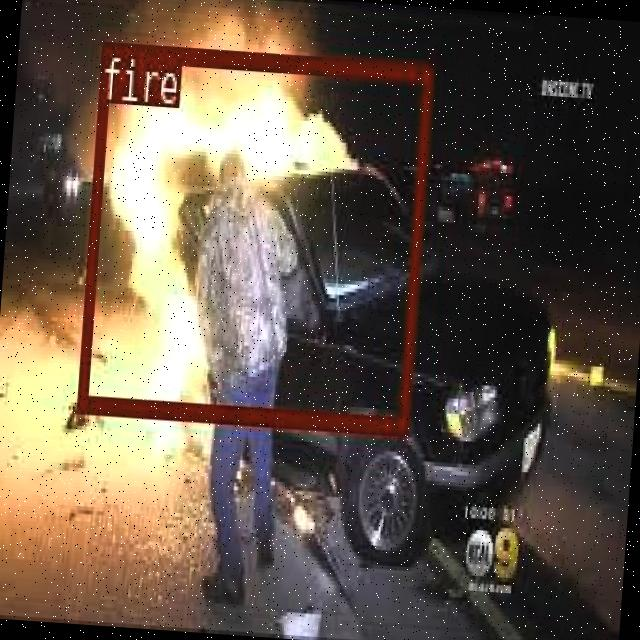fire: (74, 40, 432, 430)
